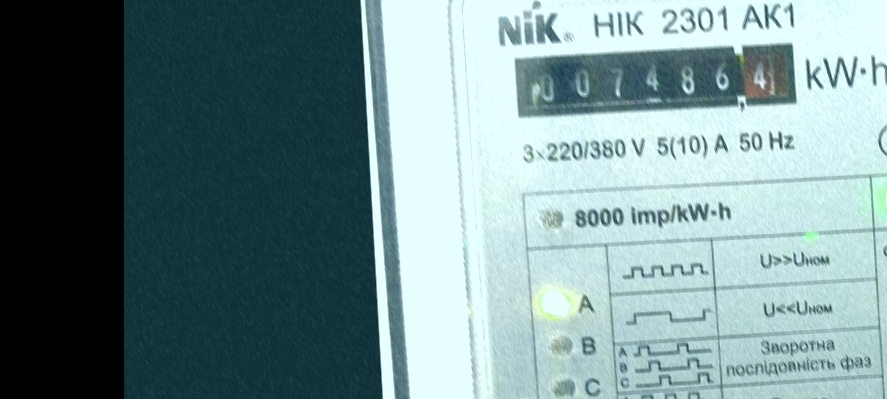0: (536, 68, 558, 103), (573, 64, 593, 98)
4: (642, 57, 662, 93), (750, 56, 769, 91)
6: (713, 58, 734, 91)
7: (605, 63, 630, 97)
8: (679, 61, 698, 97)
screen: (505, 29, 807, 129)
